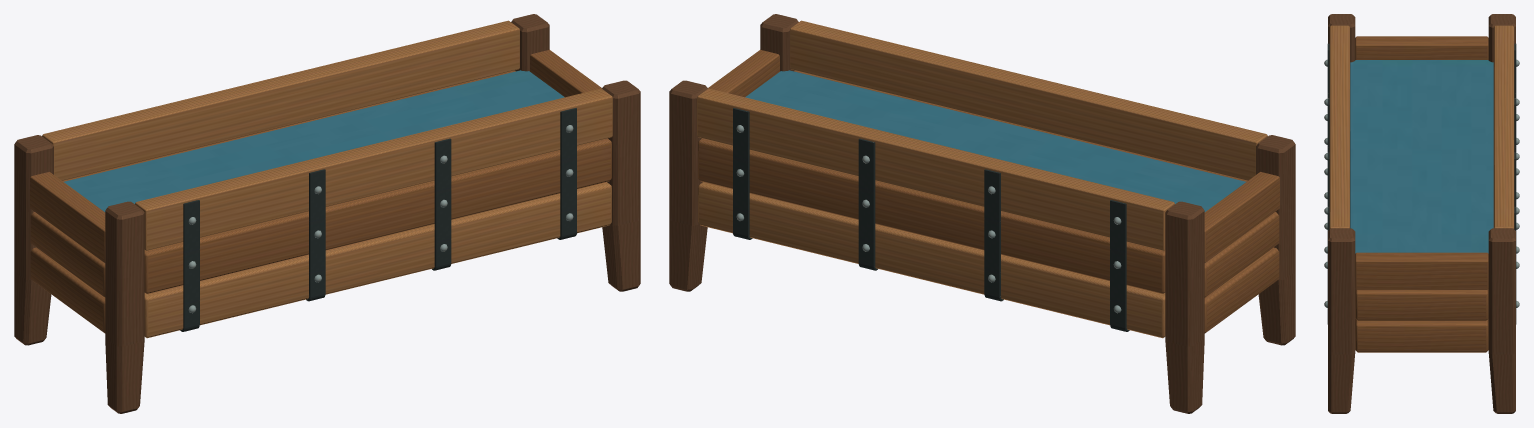
File: watertrough.glb
The picture shows the model from 3 angles, left to right: view 1: azimuth 30°, elevation 25°; view 2: azimuth 150°, elevation 25°; view 3: azimuth 270°, elevation 25°; orthographic projection. The views are drawn at different scales.
Visible parts, largest first — view 1: WatertroughBody; view 2: WatertroughBody; view 3: WatertroughBody.
Part boxes in pixels (<box>): WatertroughBody: <box>14,14,640,413</box>; WatertroughBody: <box>669,14,1295,413</box>; WatertroughBody: <box>1324,14,1519,413</box>.
Bounding box in the file's own units: 1.5 × 0.542 × 0.548.
1 material, 1 textured.
